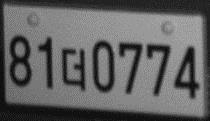0: (91, 40, 115, 92)
1: (33, 35, 59, 90)
4: (173, 46, 201, 99)
7: (145, 43, 171, 97), (118, 41, 143, 95)
8: (8, 34, 32, 87)
더: (60, 48, 88, 92)
